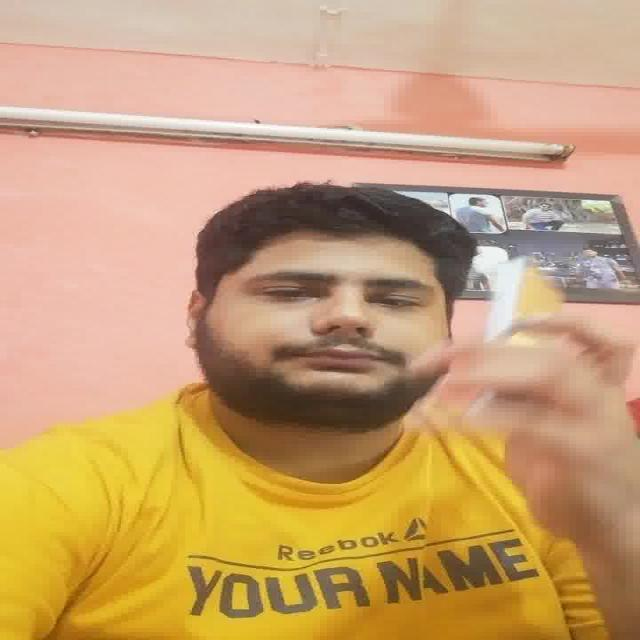Phone: (488, 254, 562, 339)
